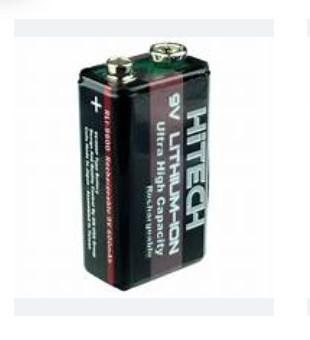9V Battery: (78, 41, 210, 292)
